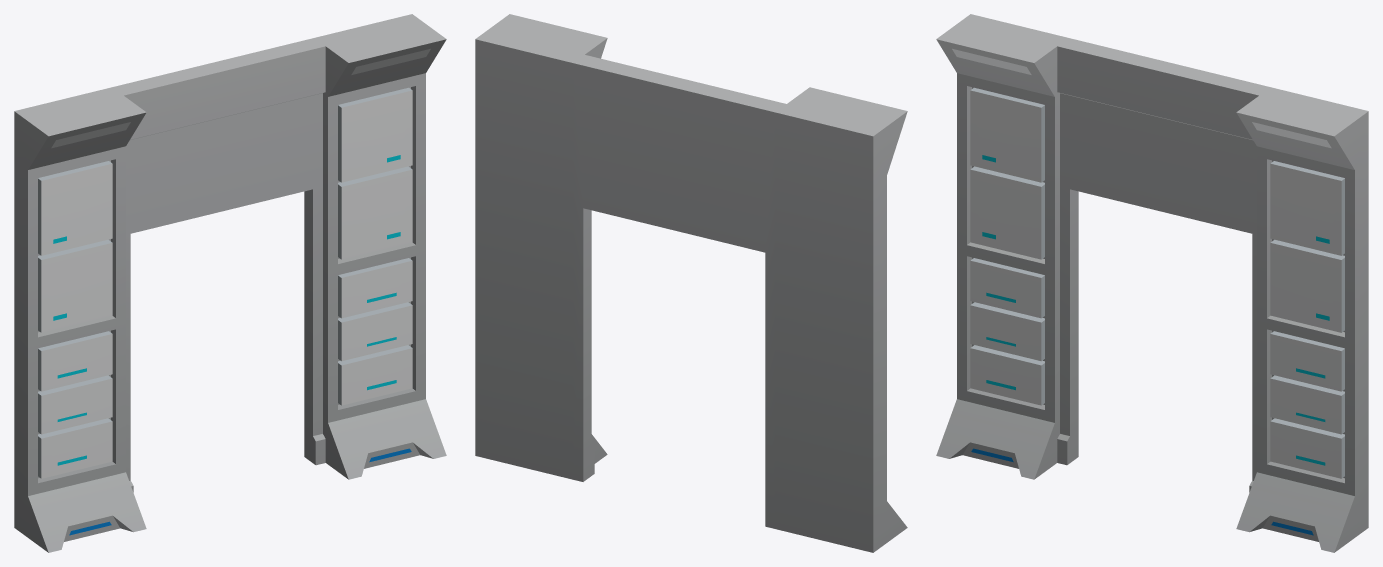
The model's file is Wall_type_A_073.fbx.
The picture shows the model from 3 angles, left to right: view 1: azimuth 30°, elevation 25°; view 2: azimuth 150°, elevation 25°; view 3: azimuth 330°, elevation 25°; orthographic projection.
Parts seen in each view (by area): view 1: Wall_type_A_073; view 2: Wall_type_A_073; view 3: Wall_type_A_073.
Part boxes in pixels (x1,y1,x2,y2): Wall_type_A_073: (14,14,446,552); Wall_type_A_073: (475,14,907,552); Wall_type_A_073: (936,14,1368,552).
Bounding box in the file's own units: 400 × 60 × 400.
